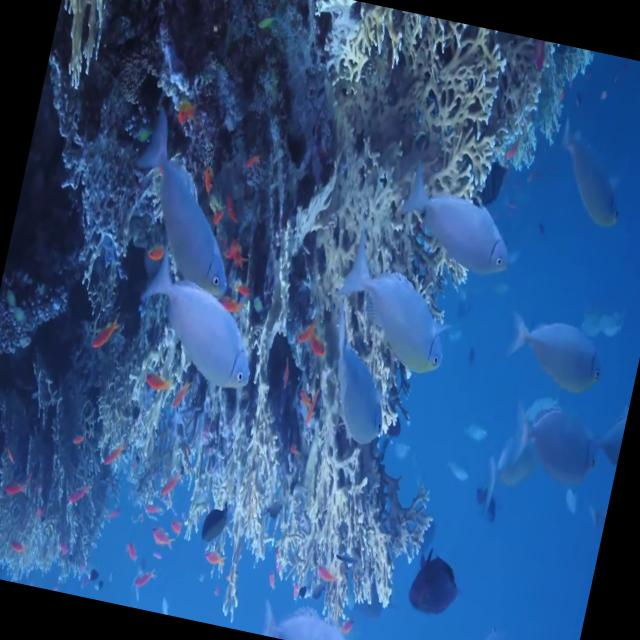fish: (122, 129, 254, 307), (127, 251, 270, 391), (334, 248, 461, 378), (396, 160, 529, 282), (504, 298, 618, 404), (319, 310, 405, 446), (503, 396, 614, 494)
